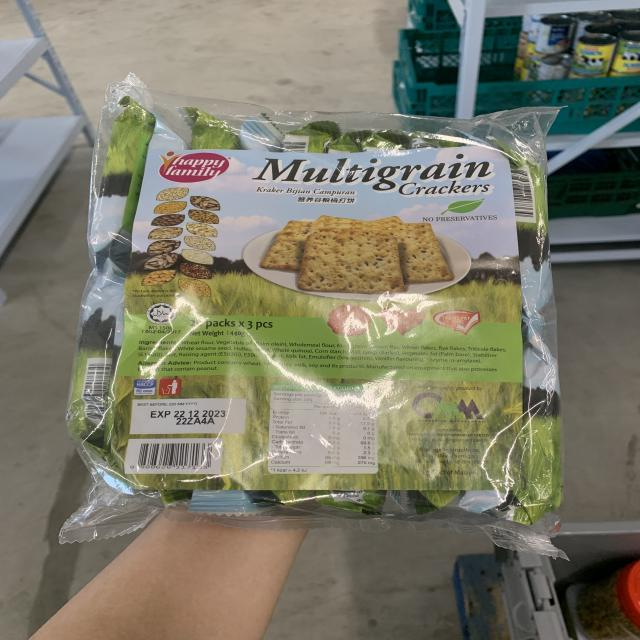object_name: (88, 88, 558, 544)
